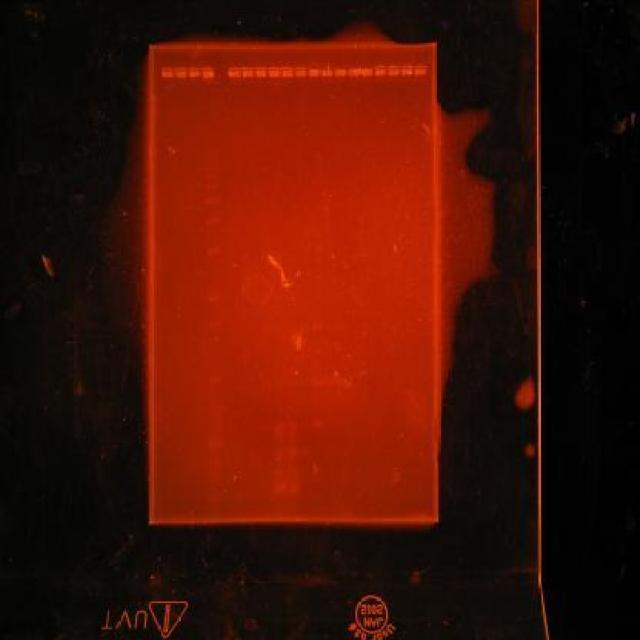B: (272, 482, 288, 498), (288, 483, 304, 499), (287, 421, 301, 436), (272, 419, 286, 433), (286, 446, 300, 459), (310, 419, 326, 430), (258, 379, 274, 390), (272, 448, 286, 460), (298, 377, 312, 388), (310, 321, 324, 332), (312, 378, 323, 387)
L: (158, 64, 428, 81)
M: (200, 140, 226, 506)
P: (207, 458, 221, 468), (206, 196, 220, 204), (206, 216, 220, 224), (206, 247, 220, 255), (207, 294, 221, 302), (207, 320, 221, 328), (208, 376, 222, 384), (204, 148, 218, 156), (208, 441, 222, 448), (204, 173, 218, 179), (204, 164, 218, 170), (204, 160, 218, 166), (206, 184, 219, 190), (204, 156, 218, 159)
Pc: (174, 66, 188, 80), (413, 64, 427, 78), (400, 64, 414, 78), (200, 66, 214, 79), (386, 64, 399, 78), (293, 66, 307, 79), (267, 66, 281, 79), (254, 66, 268, 79), (240, 66, 254, 79), (226, 66, 240, 79), (160, 66, 173, 79), (374, 64, 386, 78), (348, 66, 360, 79), (334, 66, 348, 77), (320, 66, 334, 77), (306, 67, 320, 78), (280, 66, 294, 77), (361, 67, 374, 78), (187, 68, 200, 78)
